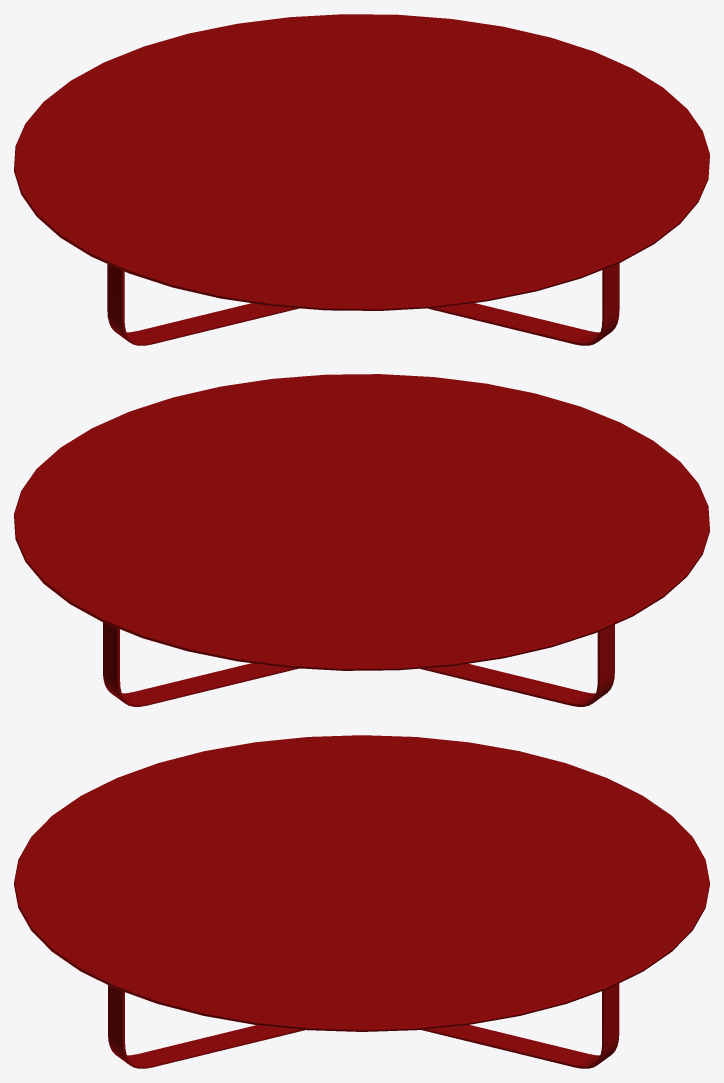
Rendered from Red_Table.glb.
The picture shows the model from 3 angles, top to bottom: view 1: azimuth 30°, elevation 25°; view 2: azimuth 150°, elevation 25°; view 3: azimuth 270°, elevation 25°; orthographic projection.
Visible parts, largest first — view 1: Cylinder005; view 2: Cylinder005; view 3: Cylinder005.
Boxes of the visible parts, x1,y1,x2,y2 form: Cylinder005: [14, 14, 709, 345]; Cylinder005: [14, 374, 709, 706]; Cylinder005: [14, 735, 709, 1068].
Bounding box in the file's own units: 200 × 40 × 200.
